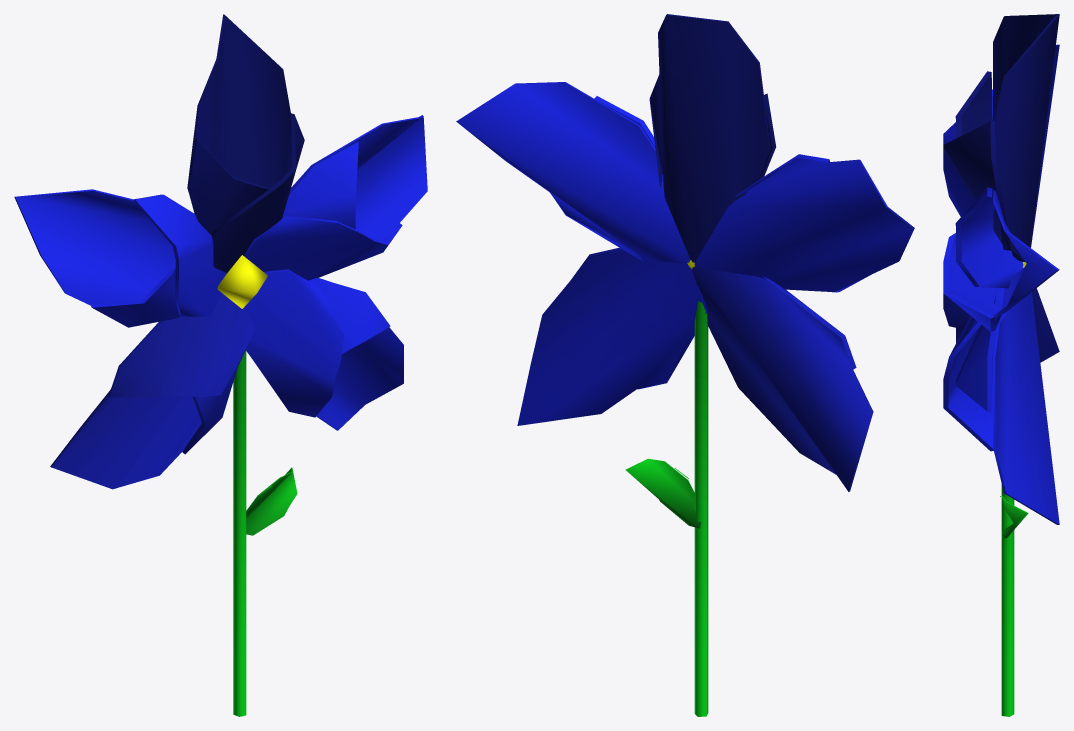
Rendered from flower.FBX.
3 views of the same model, side by side, from view 1: azimuth 30°, elevation 25°; view 2: azimuth 150°, elevation 25°; view 3: azimuth 270°, elevation 25° (orthographic). The views are drawn at different scales.
Visible parts, largest first — view 1: Plane003, Plane006, Plane002, Plane005, Plane004, Cylinder001, Plane007, Sphere001; view 2: Plane004, Plane005, Plane002, Plane006, Plane003, Cylinder001, Plane007; view 3: Plane002, Plane005, Plane004, Cylinder001, Plane003, Plane006, Plane007.
Part boxes in pixels (bbox=[...]): Plane003: bbox=[14, 189, 226, 327]; Plane006: bbox=[50, 293, 255, 489]; Plane002: bbox=[187, 14, 304, 272]; Plane005: bbox=[245, 269, 403, 430]; Plane004: bbox=[244, 115, 427, 280]; Cylinder001: bbox=[233, 350, 246, 716]; Plane007: bbox=[246, 467, 297, 535]; Sphere001: bbox=[217, 255, 267, 308]; Plane004: bbox=[456, 82, 690, 263]; Plane005: bbox=[517, 247, 707, 425]; Plane002: bbox=[649, 14, 776, 262]; Plane006: bbox=[692, 267, 873, 491]; Plane003: bbox=[694, 154, 914, 292]; Cylinder001: bbox=[694, 301, 708, 716]; Plane007: bbox=[625, 458, 701, 528]; Plane002: bbox=[943, 14, 1059, 261]; Plane005: bbox=[943, 267, 1059, 524]; Plane004: bbox=[943, 187, 1059, 331]; Cylinder001: bbox=[1001, 484, 1014, 716]; Plane003: bbox=[943, 44, 1059, 247]; Plane006: bbox=[943, 288, 1059, 362]; Plane007: bbox=[1000, 495, 1028, 538].
Size of the model in its own units: 7.95 by 12.65 by 1.9.
1 material, 1 textured.
